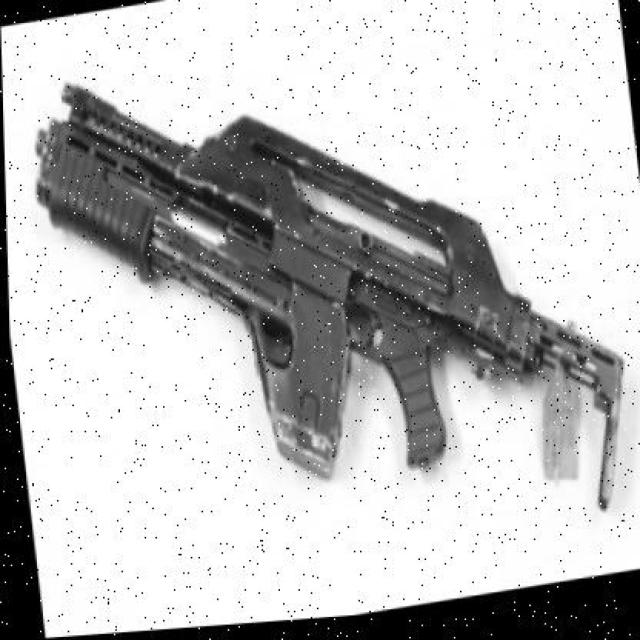weapon: (36, 82, 626, 514)
